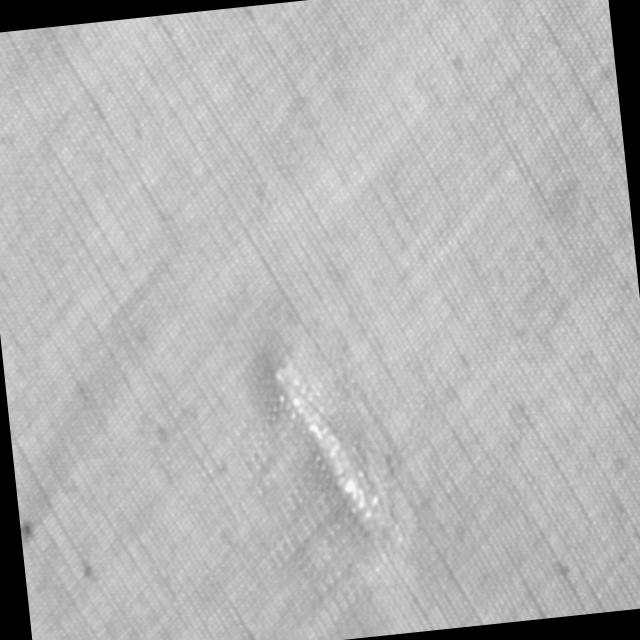hole: (262, 340, 398, 545)
